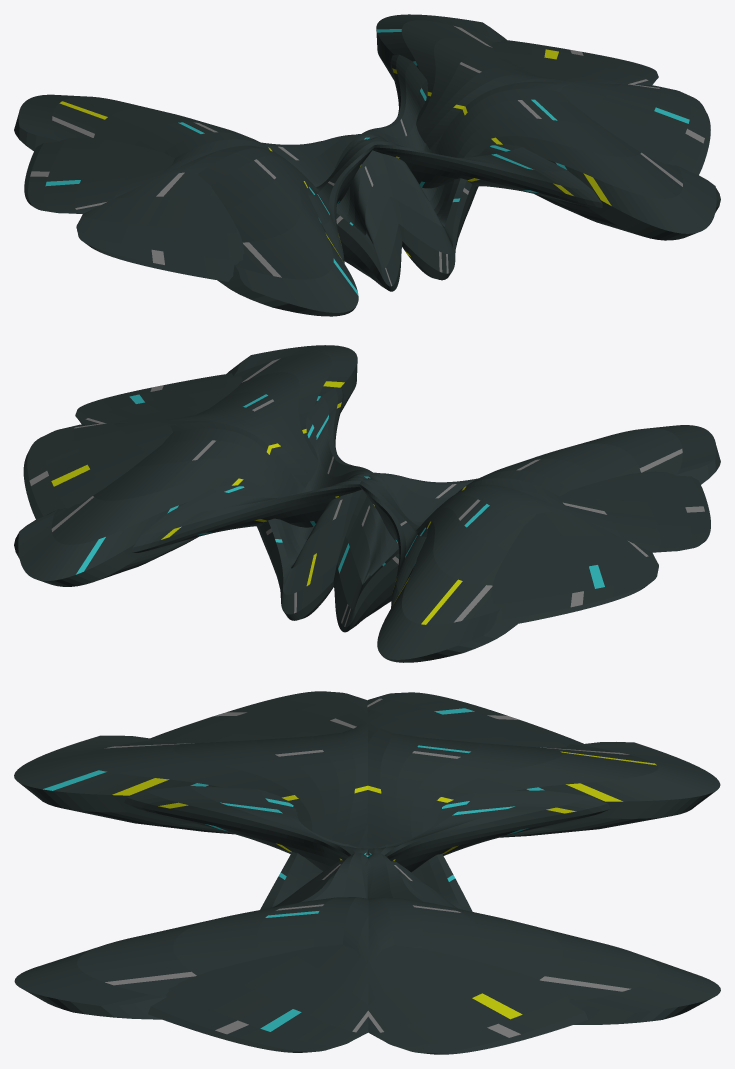
Rendered from UFO_2.fbx.
3 views of the same model, one above another, from view 1: azimuth 30°, elevation 25°; view 2: azimuth 150°, elevation 25°; view 3: azimuth 270°, elevation 25° (orthographic). The views are drawn at different scales.
Parts seen in each view (by area): view 1: СёрфОкружность.005; view 2: СёрфОкружность.005; view 3: СёрфОкружность.005.
Boxes of the visible parts, <box> form: СёрфОкружность.005: <box>14,14,720,316</box>; СёрфОкружность.005: <box>14,345,720,662</box>; СёрфОкружность.005: <box>14,691,720,1054</box>.
Size of what is drawn, in the model's own units: 1935 by 414 by 1665.
